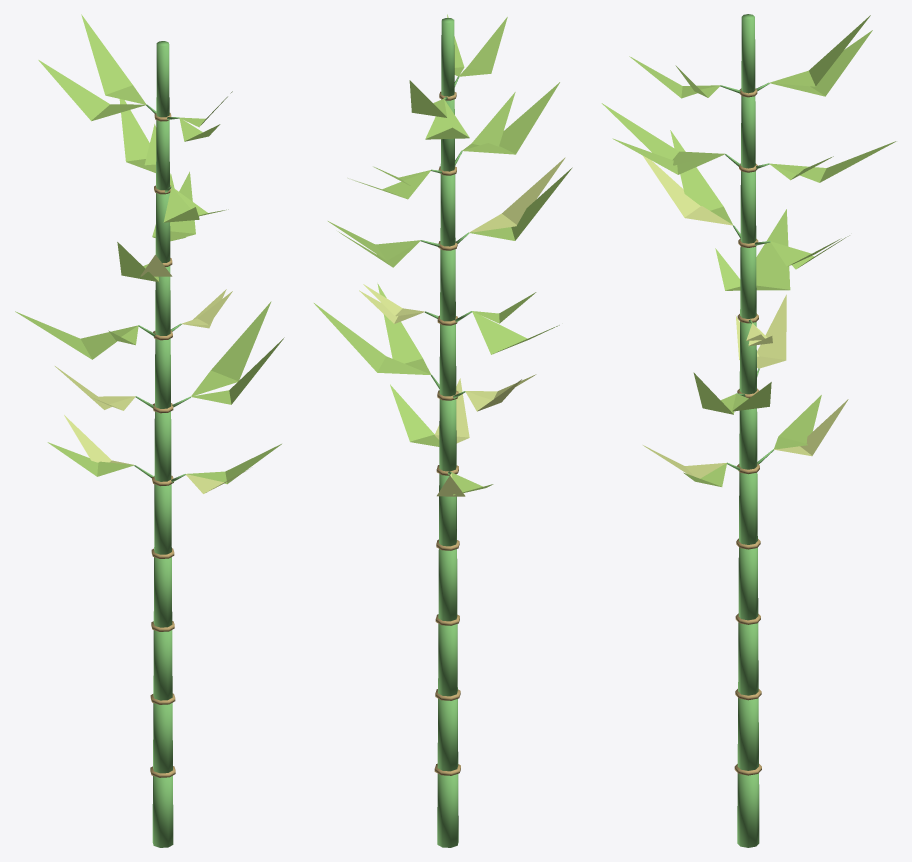
The model's file is bamboo_culm_tall_b.glb.
The picture shows the model from 3 angles, left to right: view 1: azimuth 30°, elevation 25°; view 2: azimuth 150°, elevation 25°; view 3: azimuth 270°, elevation 25°; orthographic projection. The views are drawn at different scales.
Visible parts, largest first — view 1: bamboo_culm_tall_b; view 2: bamboo_culm_tall_b; view 3: bamboo_culm_tall_b.
Boxes of the visible parts, <box> form: bamboo_culm_tall_b: <box>15,14,284,847</box>; bamboo_culm_tall_b: <box>314,14,572,847</box>; bamboo_culm_tall_b: <box>601,14,896,847</box>.
Bounding box in the file's own units: 2.42 × 7.4 × 2.4.
